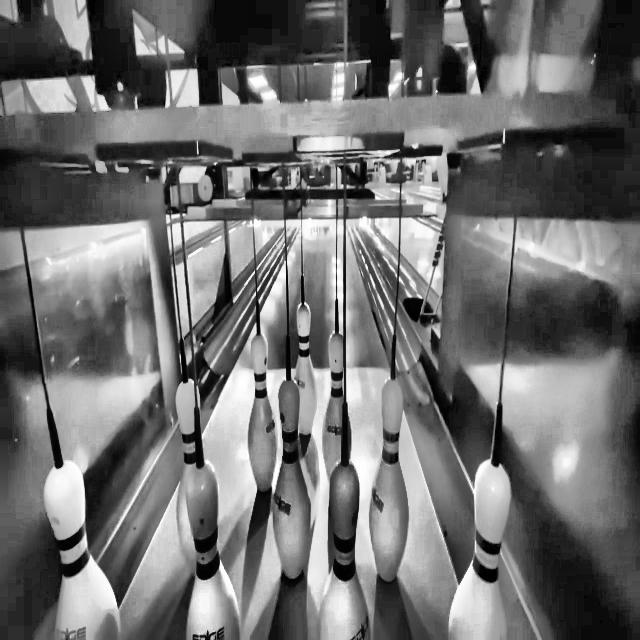bowling-pins: (44, 460, 118, 640), (450, 460, 512, 640), (186, 462, 240, 640), (320, 452, 370, 640), (370, 378, 409, 582), (273, 379, 311, 579), (248, 332, 278, 492), (176, 379, 196, 568), (323, 330, 344, 478), (294, 300, 316, 436)
